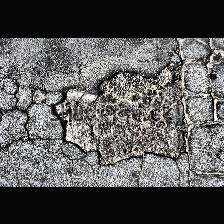pothole: (50, 68, 188, 166)
